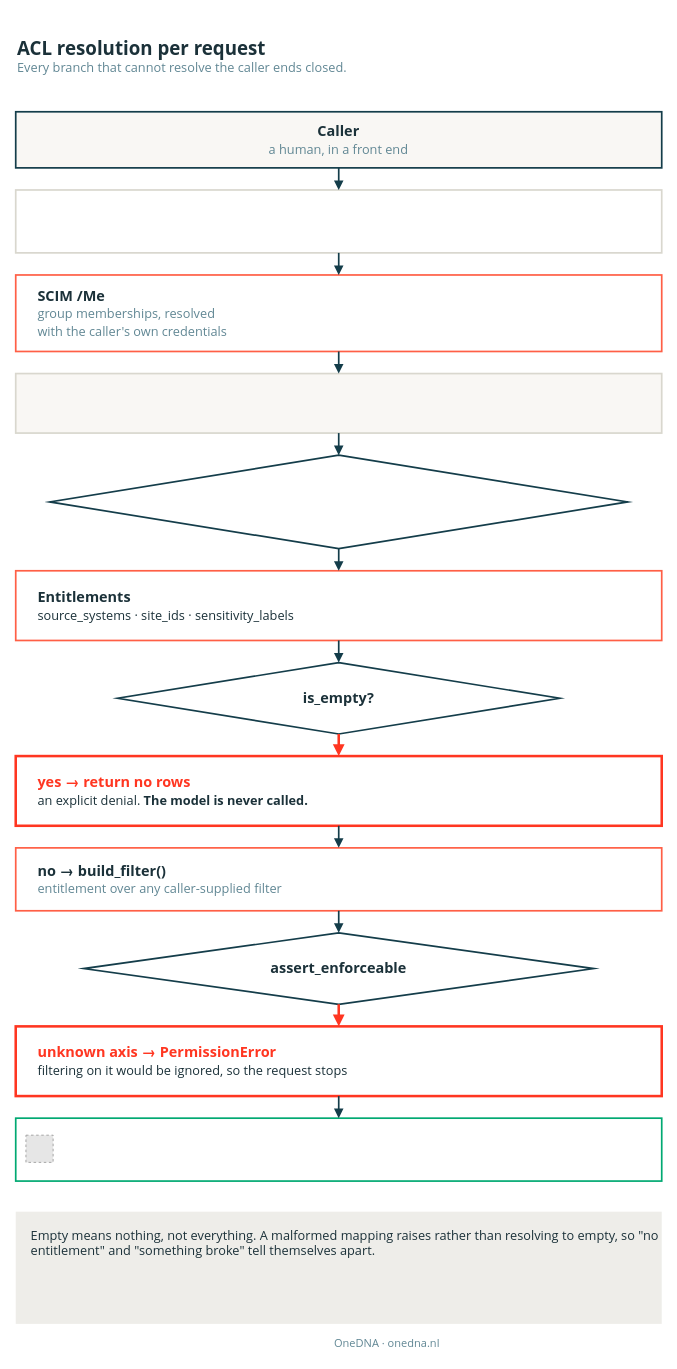
Some shapes in this 677 by 1369 pixel diagram are drawn without their labels. Grey dashed boxes stand in for pictures. Here are the shapes that lost their labels. From the top down, the box of each, then its label:
(14, 189, 662, 253): Their OBO token not the endpoint's identity
(14, 372, 662, 434): groups [group-a, group-b, …]
(48, 454, 628, 549): declared grants table an unmapped group grants nothing
(14, 1117, 662, 1182): ok → AI Search query + the entitlement filter
